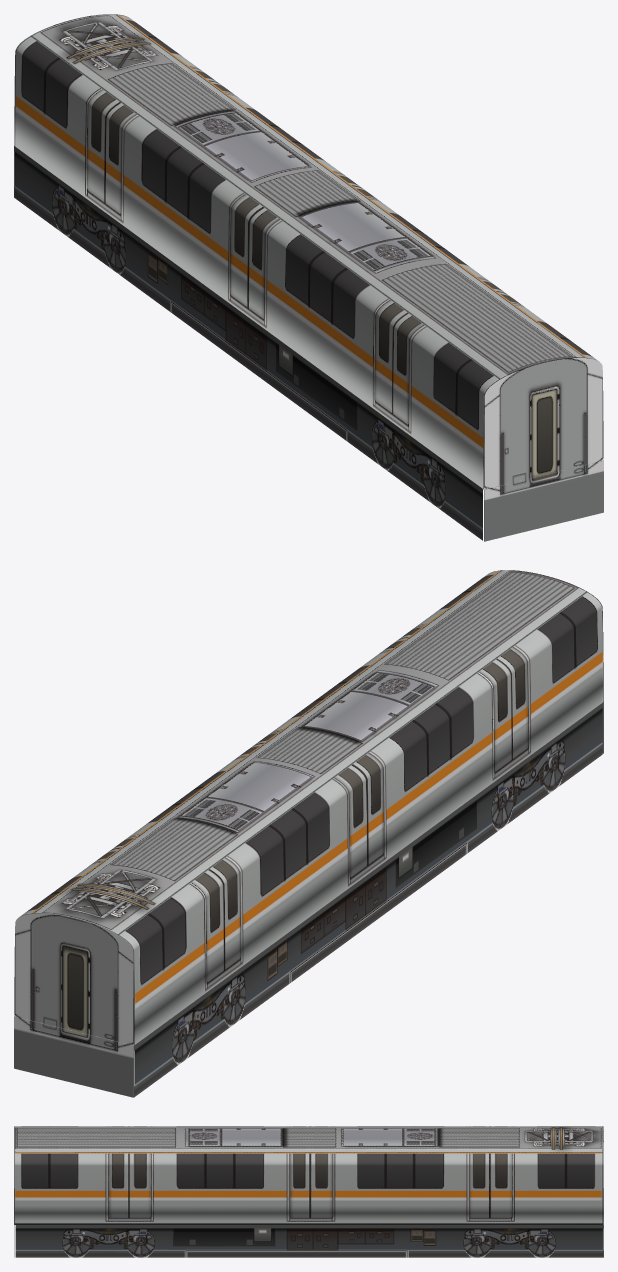
Rendered from car3.glb.
The picture shows the model from 3 angles, top to bottom: view 1: azimuth 30°, elevation 25°; view 2: azimuth 150°, elevation 25°; view 3: azimuth 270°, elevation 25°; orthographic projection. The views are drawn at different scales.
Visible parts, largest first — view 1: hansin-9000-car3; view 2: hansin-9000-car3; view 3: hansin-9000-car3.
Part boxes in pixels (box(x1,y1,x2,y2)): hansin-9000-car3: box(14, 14, 603, 541); hansin-9000-car3: box(14, 570, 603, 1097); hansin-9000-car3: box(14, 1126, 603, 1257).
Size of the model in its own units: 2.78 by 3.64 by 18.91.
Materials: 9 (8 with a texture image).
